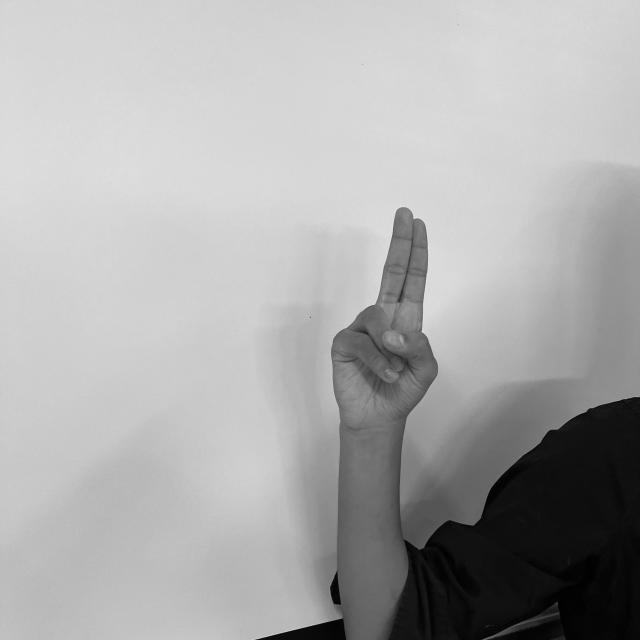Letra U: (328, 200, 442, 427)
